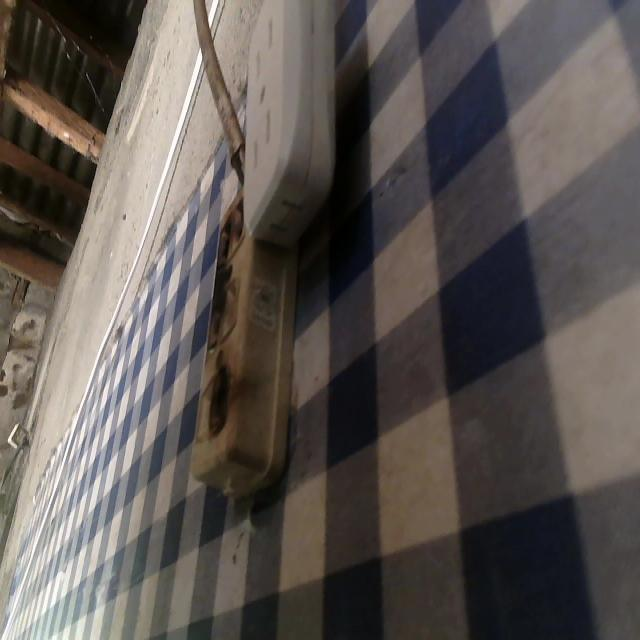-: (203, 364, 237, 443), (209, 202, 246, 266)
